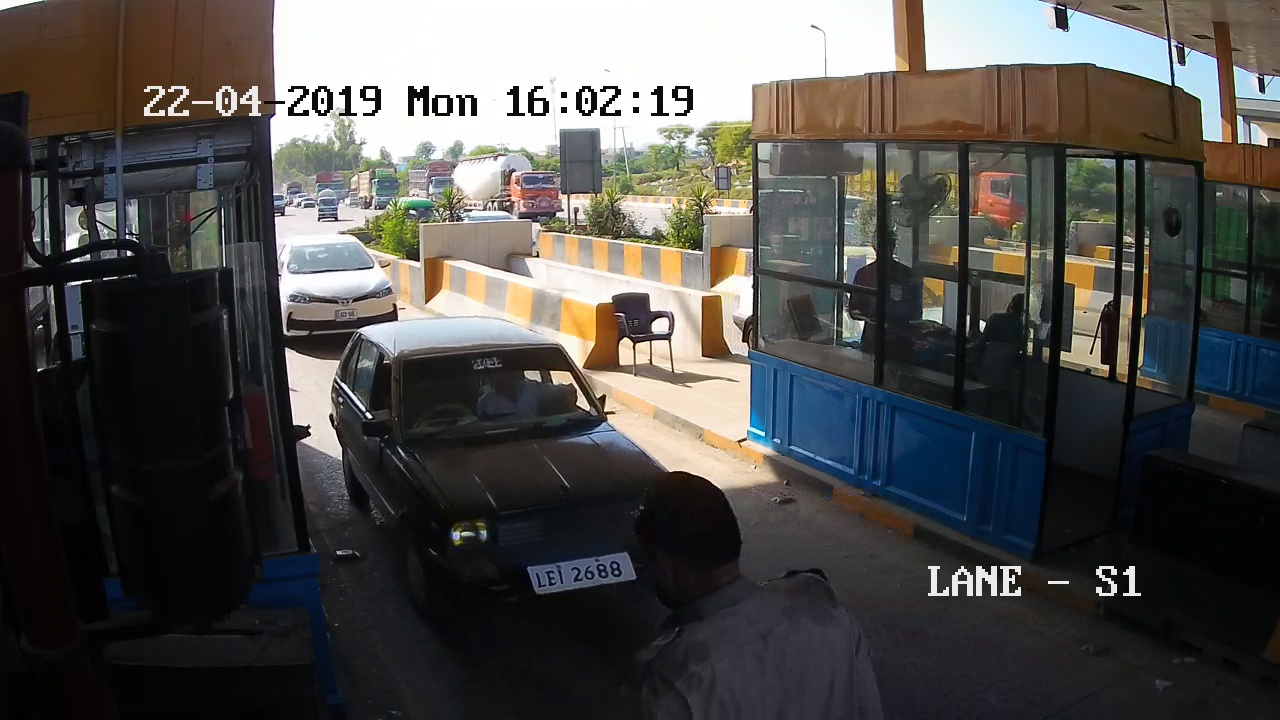Number Plate (Car): (525, 552, 631, 594)
